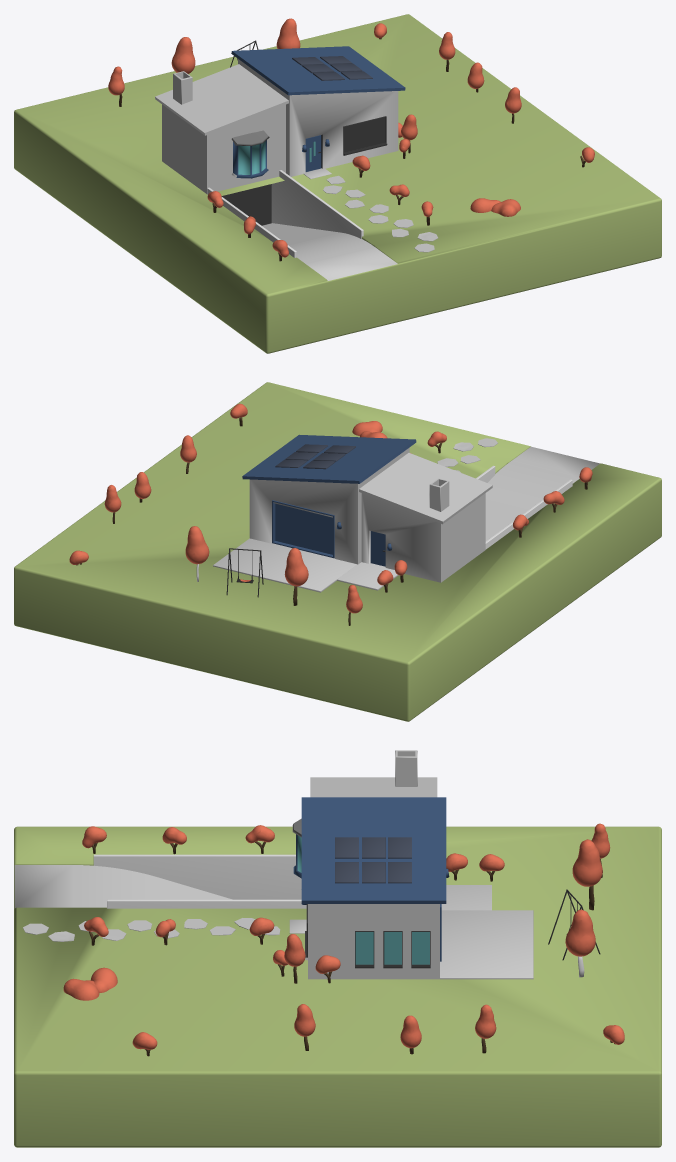
The model's file is elf.dae.
The picture shows the model from 3 angles, top to bottom: view 1: azimuth 30°, elevation 25°; view 2: azimuth 150°, elevation 25°; view 3: azimuth 270°, elevation 25°; orthographic projection. The views are drawn at different scales.
Parts seen in each view (by area): view 1: _1; view 2: _1; view 3: _1.
Boxes of the visible parts, x1,y1,x2,y2 form: _1: [14, 14, 661, 353]; _1: [14, 382, 661, 721]; _1: [14, 750, 661, 1147].
Size of the model in its own units: 730 by 301 by 810.
